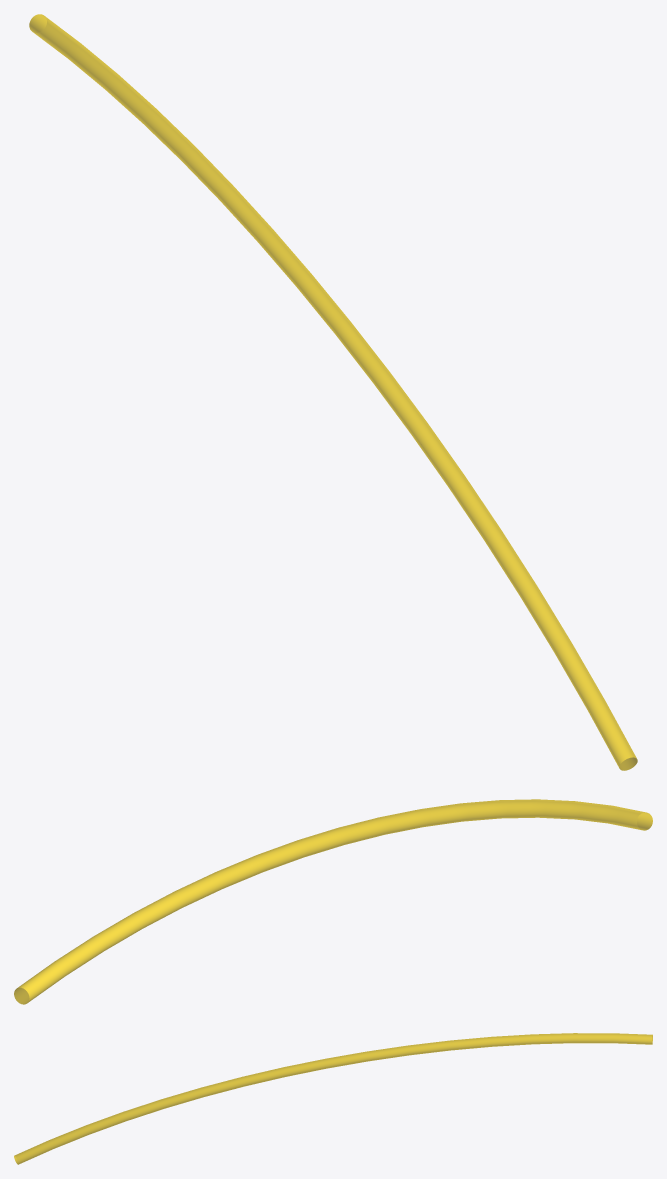
The model's file is Event_15818458_track_7.fbx.
The picture shows the model from 3 angles, top to bottom: view 1: azimuth 30°, elevation 25°; view 2: azimuth 150°, elevation 25°; view 3: azimuth 270°, elevation 25°; orthographic projection. The views are drawn at different scales.
Parts seen in each view (by area): view 1: Model; view 2: Model; view 3: Model.
Boxes of the visible parts, x1,y1,x2,y2 form: Model: [29, 14, 637, 770]; Model: [14, 799, 652, 1004]; Model: [14, 1033, 652, 1164].
Bounding box in the file's own units: 0.1455 × 0.618 × 2.54.
